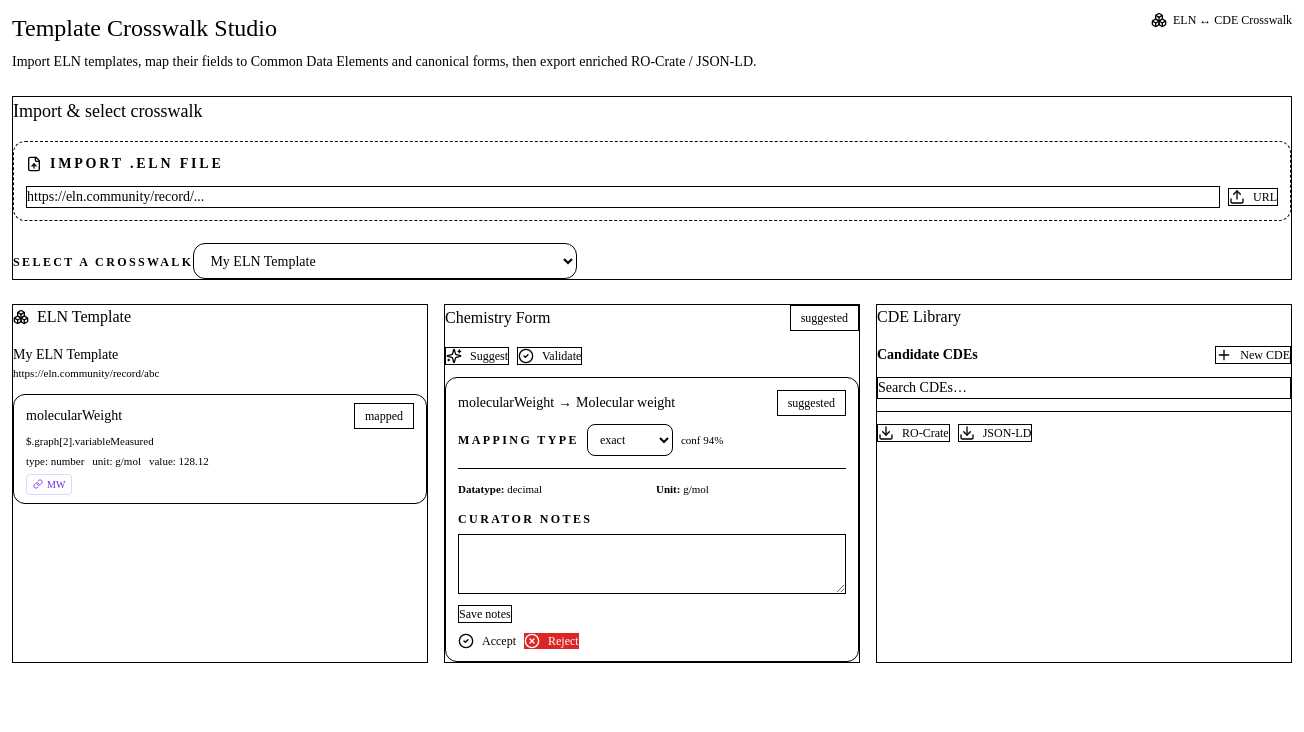
Scenario: TemplateCrosswalkStudioPage › opens the create-CDE form
Click the button "New CDE": (1253, 355) [1215,346,1291,364]
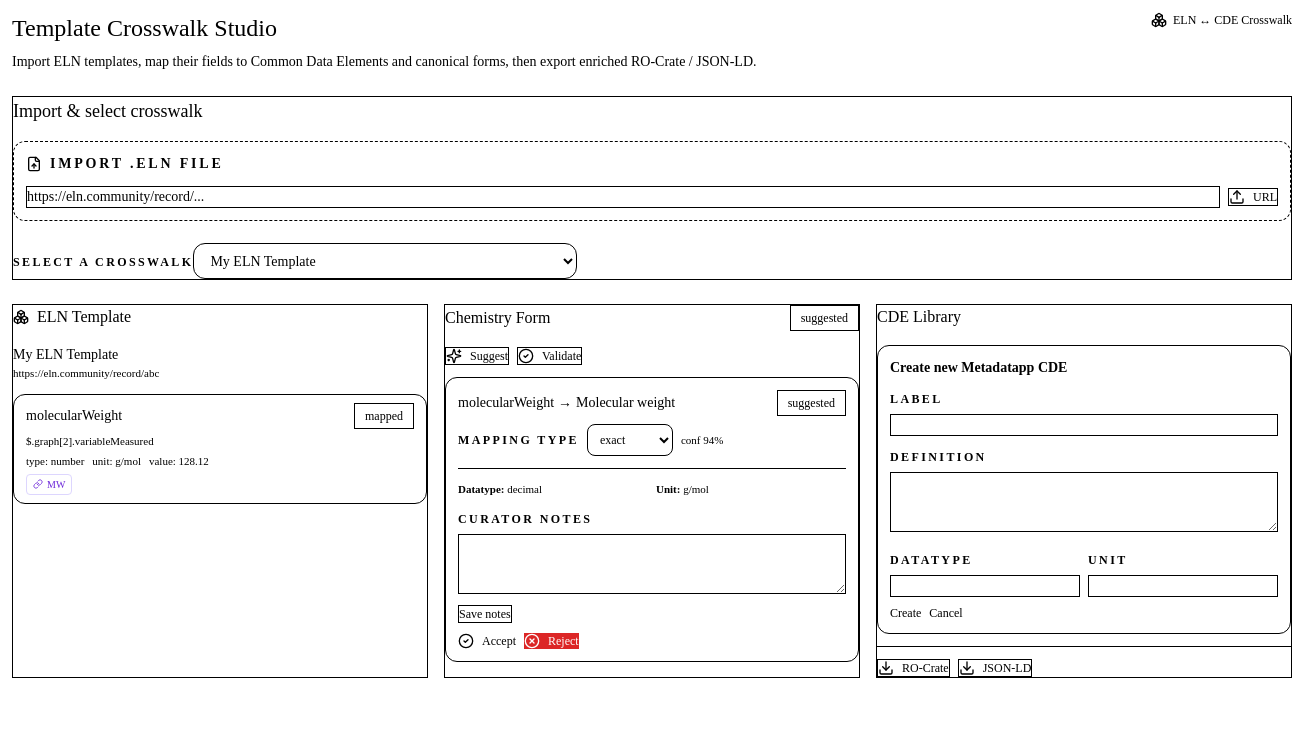
Result: the heading "Create new Metadatapp CDE" is shown at [890,360,1068,375]
